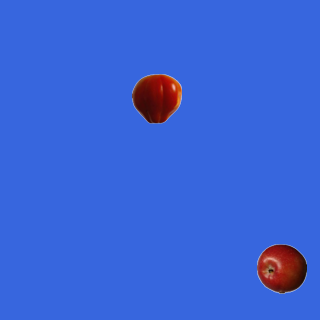Apple Braeburn: (256, 243, 306, 293)
Tomato 1: (131, 73, 181, 123)
